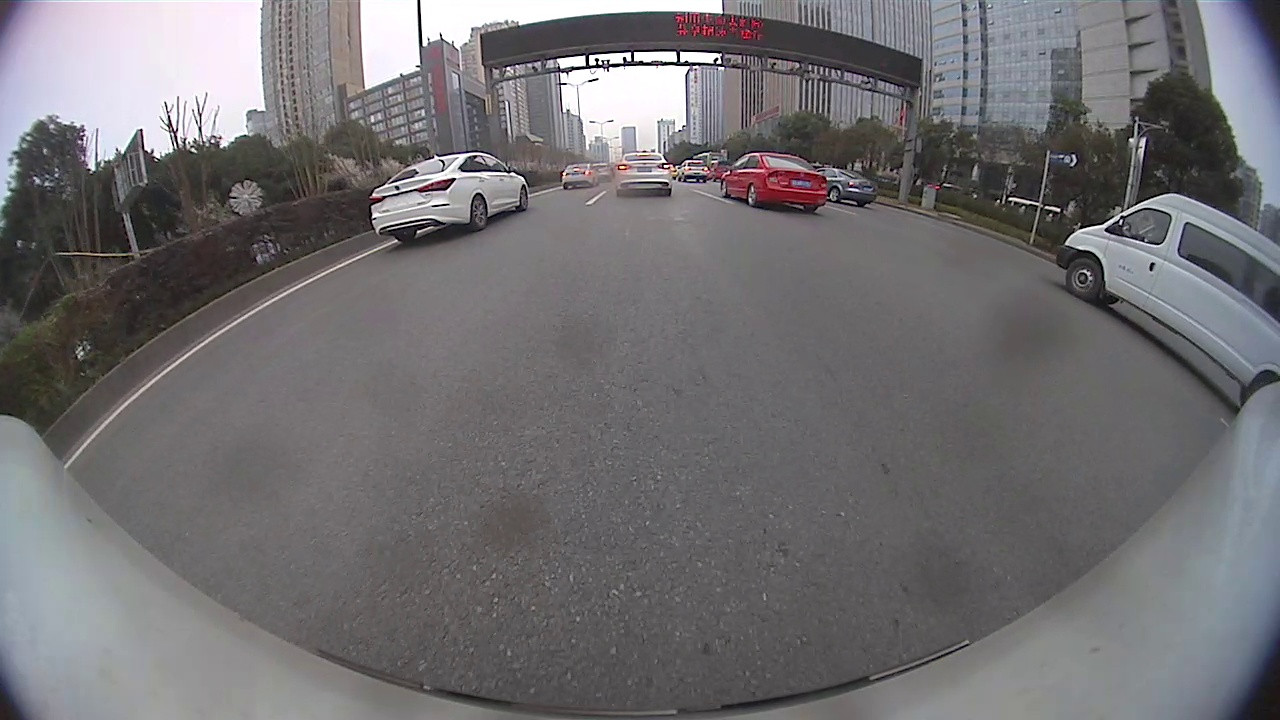car: (1054, 191, 1279, 403), (367, 148, 529, 242), (719, 149, 828, 212), (614, 150, 673, 196), (819, 168, 880, 208), (560, 161, 599, 188), (679, 160, 711, 184)
front: (1064, 257, 1102, 302), (518, 183, 530, 212)
rear: (470, 194, 488, 232), (746, 184, 757, 206)
